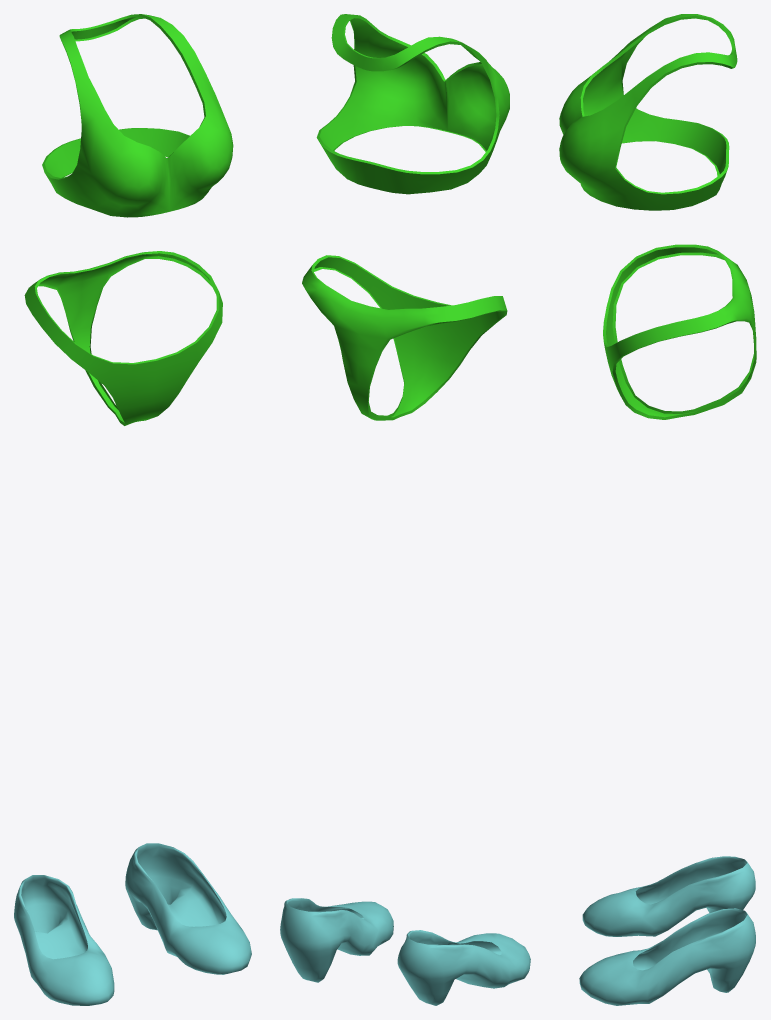
The model's file is weigher_skin_1.fbx.
3 views of the same model, side by side, from view 1: azimuth 30°, elevation 25°; view 2: azimuth 150°, elevation 25°; view 3: azimuth 270°, elevation 25° (orthographic). The views are drawn at different scales.
Visible parts, largest first — view 1: dress_0, shoes_0; view 2: dress_0, shoes_0; view 3: dress_0, shoes_0.
Boxes of the visible parts, bbox=[...] form: dress_0: bbox=[24, 14, 233, 425]; shoes_0: bbox=[14, 843, 251, 1005]; dress_0: bbox=[302, 14, 509, 420]; shoes_0: bbox=[280, 898, 530, 1005]; dress_0: bbox=[559, 14, 756, 419]; shoes_0: bbox=[579, 856, 755, 1005].
Size of the model in its own units: 0.3761 by 1.64 by 0.3165.
